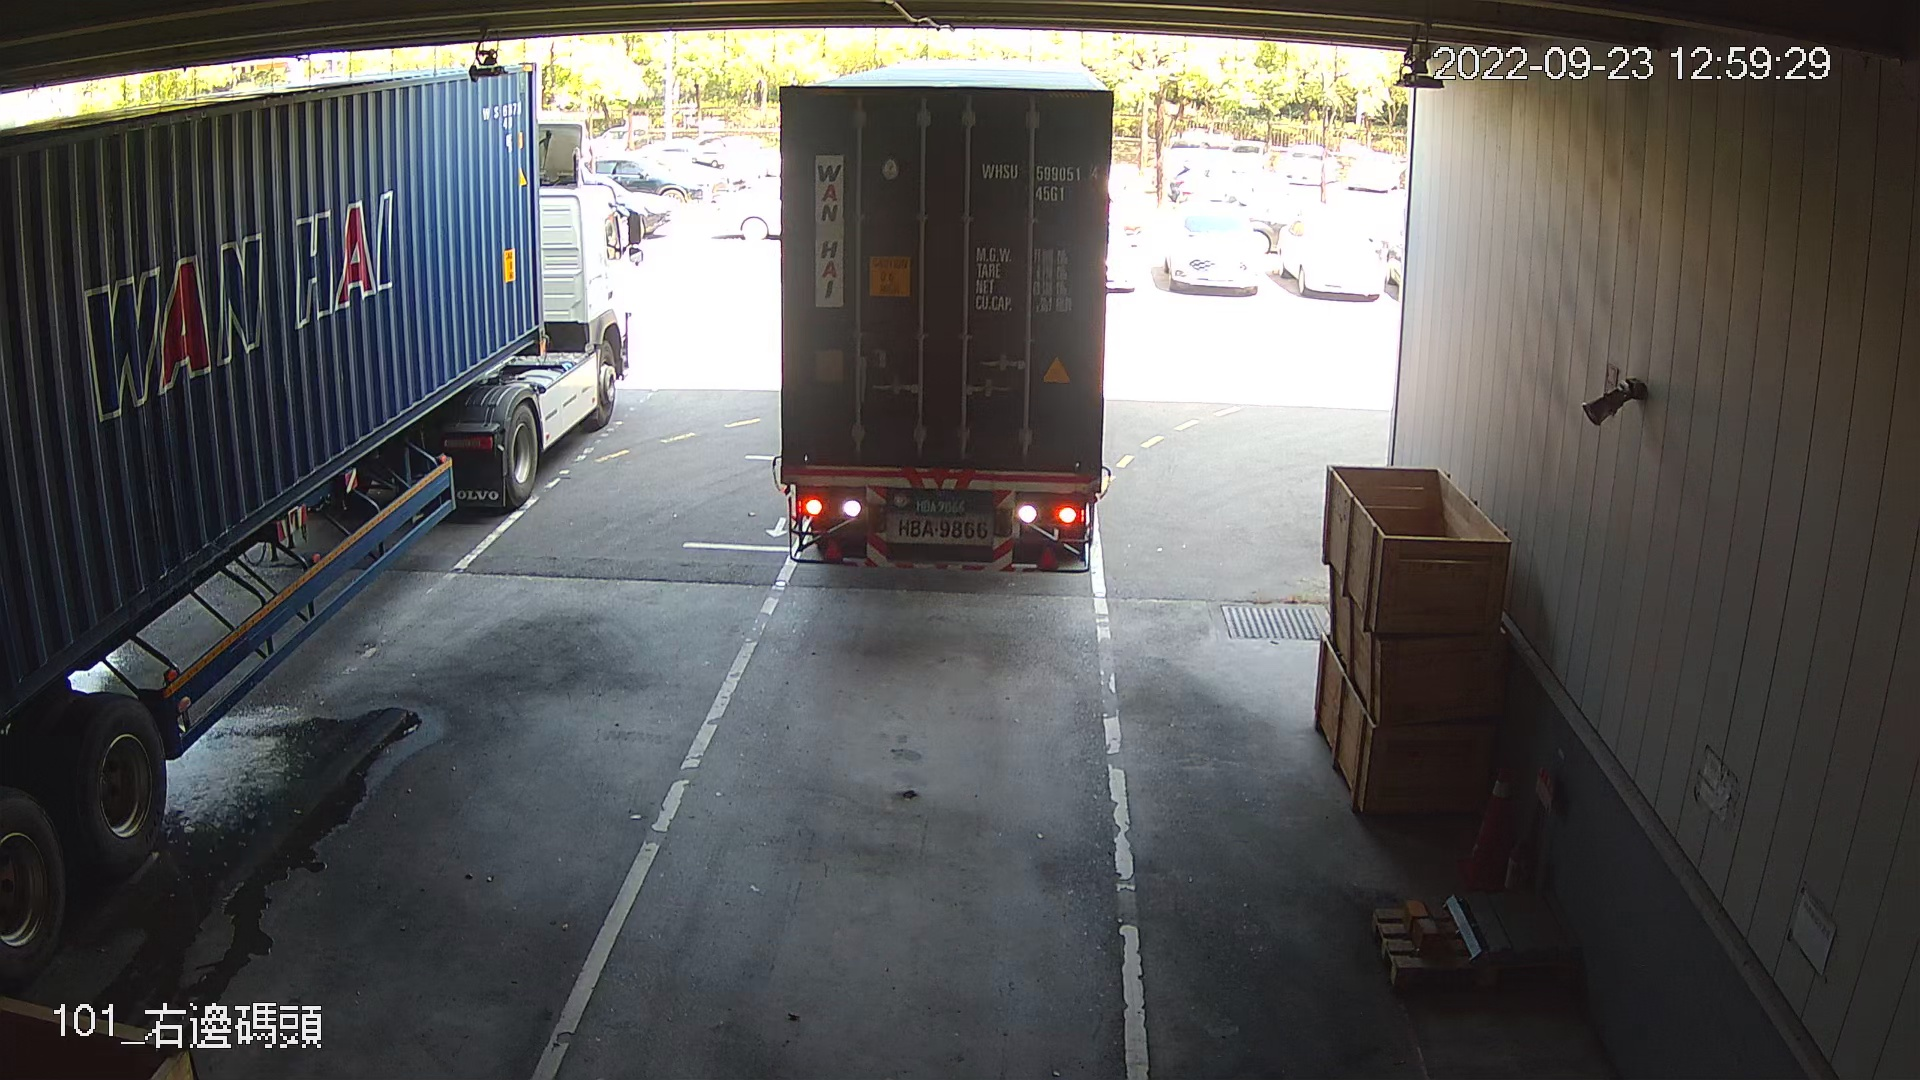container: (975, 152, 1104, 208)
